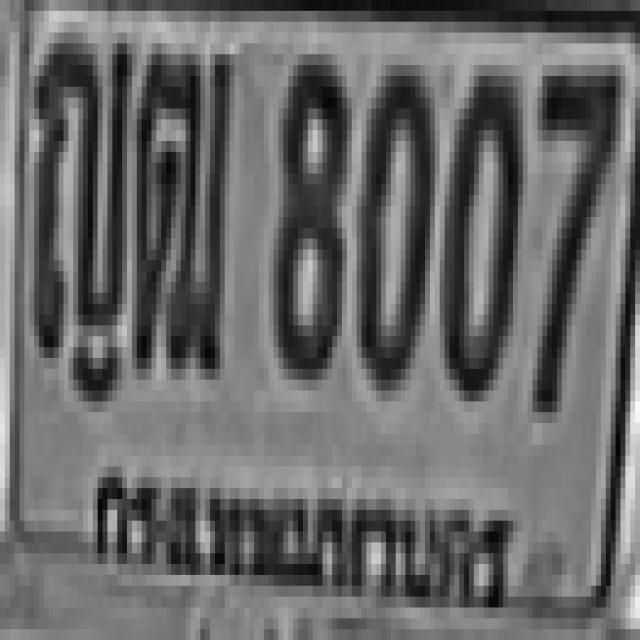0: (440, 65, 518, 391), (357, 54, 430, 380)
22YorYing: (29, 33, 127, 358)
27ThorPhuThao: (127, 43, 230, 369)
7: (530, 54, 618, 402)
8: (269, 43, 342, 369)
Bangkok: (80, 442, 528, 624)
